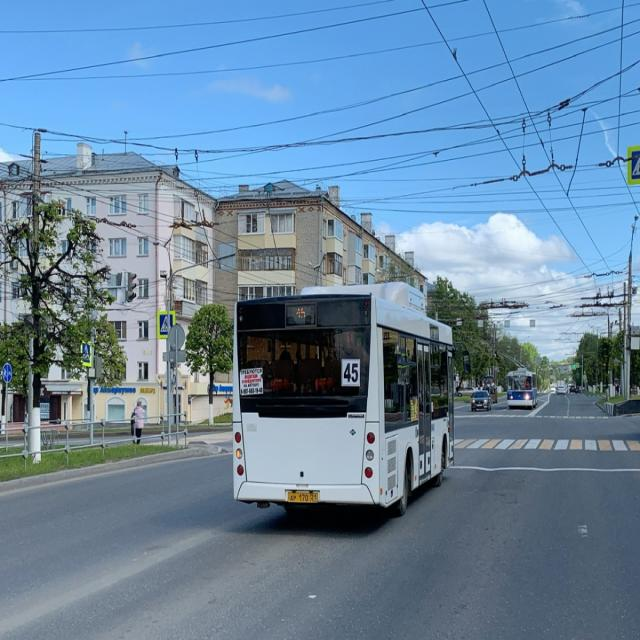number-of-bus: (343, 362, 361, 387)
